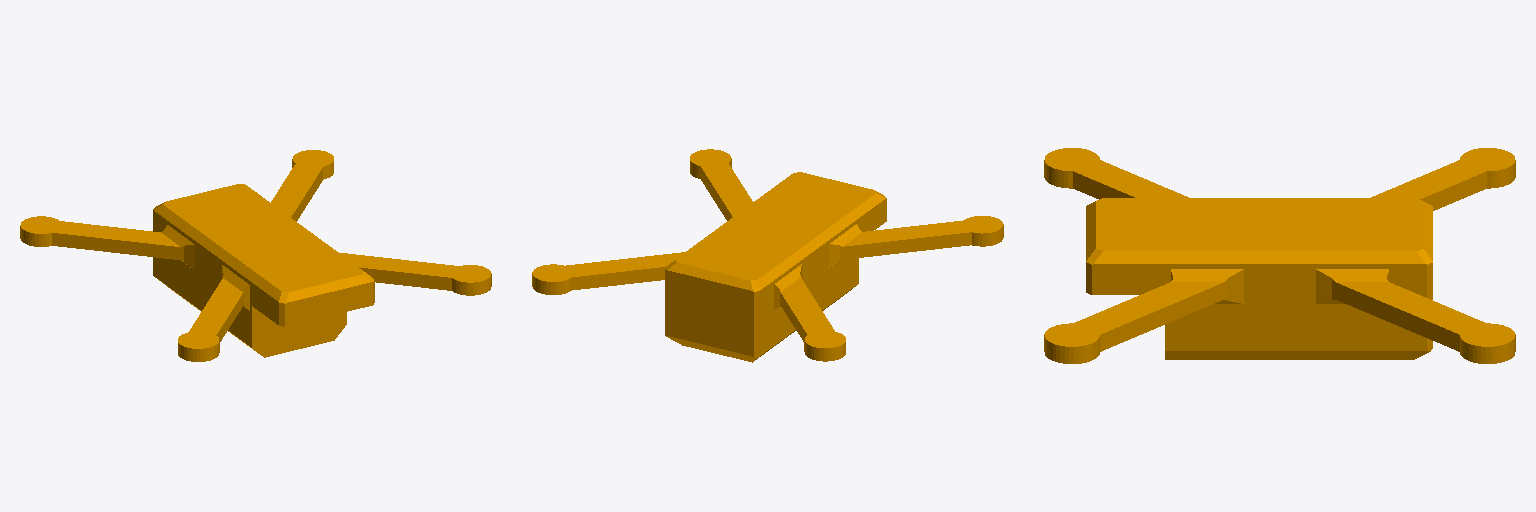
The robot description file, URDF, robot "FAST_DESING":
<?xml version='1.0' encoding='utf-8'?>
<robot name="FAST_DESING">
    <link name="DRONE_FAST">
        <inertial>
            <origin xyz="6.497843739160201e-17 0.0009017790995962314 0.0013886844844377055" rpy="0.0 0.0 0.0" />
            <mass value="0.8901029020917858" />
            <inertia ixx="0.0026930074950412305" iyy="0.0013586036951103986" izz="0.0034856635823616376" ixy="1.0850315633625011e-17" iyz="0.00011865625920420858" ixz="2.4001565683650767e-18" />
        </inertial>
        <visual name="DRONE_FAST_visual">
            <origin xyz="0.0 0.0 0.0" rpy="0.0 0.0 0.0" />
            <geometry>
                <mesh filename="meshes/DRONE_FAST.stl" scale="0.001 0.001 0.001" />
            </geometry>
        </visual>
        <collision name="DRONE_FAST_collision">
            <origin xyz="0.0 0.0 0.0" rpy="0.0 0.0 0.0" />
            <geometry>
                <mesh filename="meshes/DRONE_FAST.stl" scale="0.001 0.001 0.001" />
            </geometry>
        </collision>
    </link>
</robot>

--- What the picture shows (computed from the rendered views, not written in the file) ---
3 views of the same robot in one strip: view 1: azimuth 30°, elevation 25°; view 2: azimuth 150°, elevation 25°; view 3: azimuth 270°, elevation 25° (orthographic).
Robot: FAST_DESING — 1 links, 0 joints (none); root link DRONE_FAST; default pose: every joint at zero.
Visible links, largest first — view 1: DRONE_FAST; view 2: DRONE_FAST; view 3: DRONE_FAST.
Link boxes in pixels (left/top/right/bottom): DRONE_FAST: left=20, top=150, right=491, bottom=361; DRONE_FAST: left=532, top=149, right=1003, bottom=362; DRONE_FAST: left=1044, top=148, right=1515, bottom=363.
Size in the robot's own frame: 0.2465 by 0.2465 by 0.065 metres.
Meshes: 1 distinct files referenced, 1 mesh visuals loaded (1 binary STL).